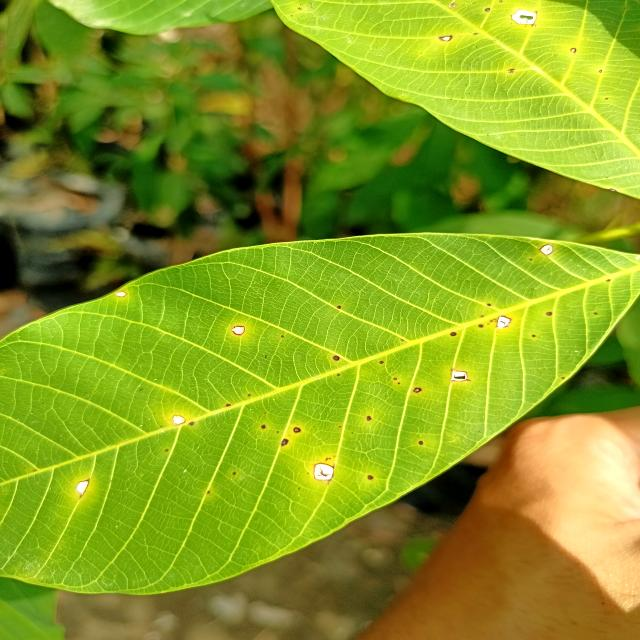Colletotrichum: (313, 462, 334, 482), (540, 244, 554, 256), (496, 316, 511, 327), (232, 325, 246, 336), (172, 415, 185, 424), (116, 290, 128, 298), (438, 36, 452, 42), (280, 438, 290, 446), (413, 387, 422, 393), (294, 427, 302, 433), (448, 4, 456, 8), (366, 416, 372, 421), (570, 48, 576, 53), (333, 356, 340, 360), (368, 475, 373, 480), (546, 312, 552, 316), (484, 8, 490, 12), (451, 333, 456, 337), (478, 324, 483, 328), (419, 440, 423, 444), (379, 361, 384, 364), (261, 425, 266, 428), (498, 0, 503, 3), (531, 334, 535, 337), (337, 306, 341, 309), (599, 70, 602, 73), (393, 378, 397, 380), (487, 304, 491, 306)
